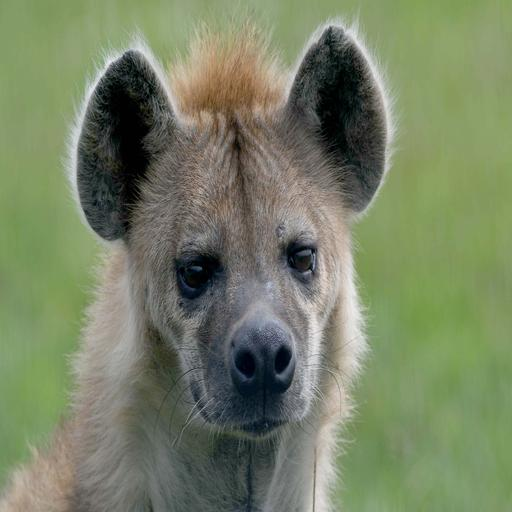Hyena: (0, 16, 395, 512)
